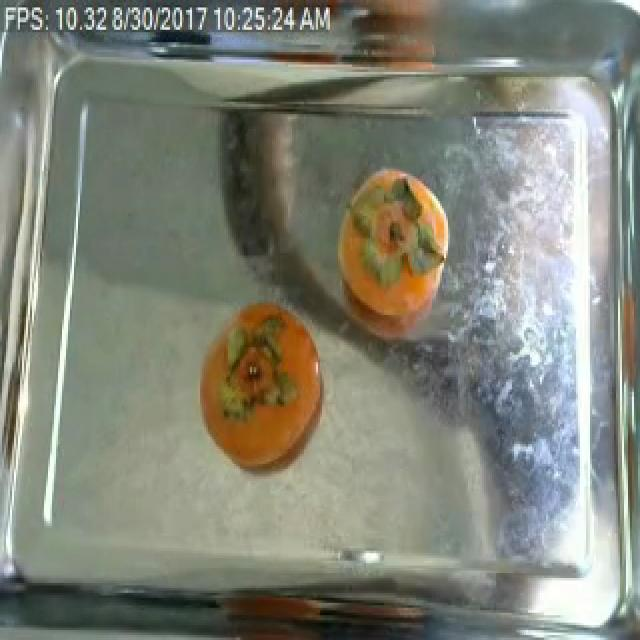Fruit: (214, 99, 382, 278), (326, 159, 456, 342)
